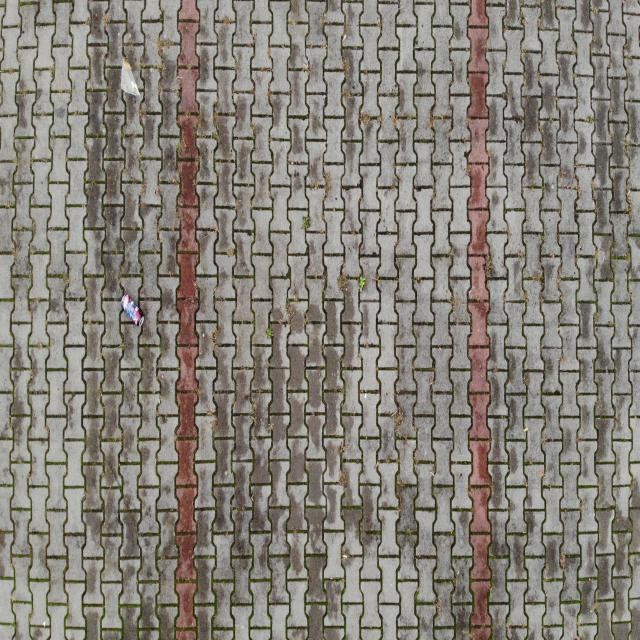rubbish: (119, 55, 140, 97), (120, 293, 145, 328)
